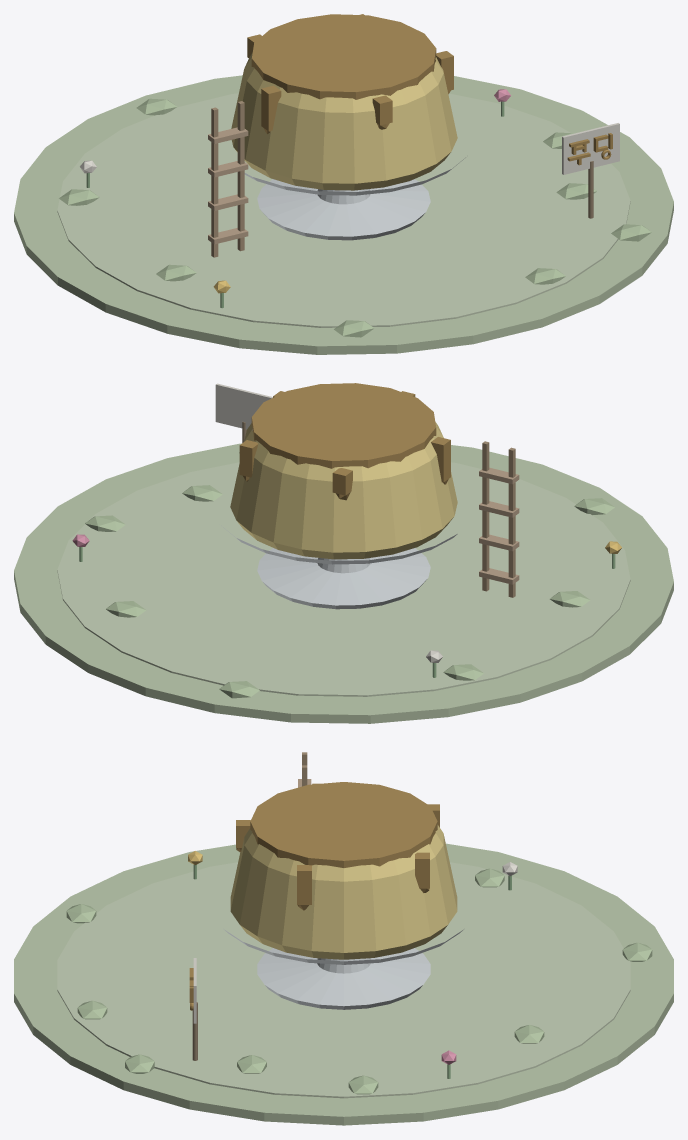
The model's file is pudding.glb.
3 renders of one model, top to bottom at view 1: azimuth 30°, elevation 25°; view 2: azimuth 150°, elevation 25°; view 3: azimuth 270°, elevation 25°, orthographic.
Parts seen in each view (by area): view 1: part_07, part_06, part_11, part_02, part_08, part_04, part_03, part_12, part_05; view 2: part_07, part_06, part_11, part_02, part_08, part_04, part_03, part_12, part_05; view 3: part_07, part_06, part_11, part_02, part_08, part_04.
Part boxes in pixels (x1,y1,x2,y2): part_07: (57,93,630,327); part_06: (14,75,673,354); part_11: (231,53,457,190); part_02: (247,14,612,165); part_08: (244,157,465,240); part_04: (59,98,651,337); part_03: (211,101,244,257); part_12: (80,123,619,174); part_05: (208,127,248,244); part_07: (57,462,630,696); part_06: (14,443,673,723); part_11: (230,422,457,559); part_02: (239,383,450,500); part_08: (221,525,457,609); part_04: (85,452,614,698); part_03: (482,441,515,597); part_12: (215,383,442,662); part_05: (479,467,519,584); part_07: (57,862,630,1098); part_06: (14,843,673,1125); part_11: (230,825,457,959); part_02: (189,782,439,1010); part_08: (224,929,463,1009); part_04: (66,868,652,1094).
Bounding box in the file's own units: 15.2 × 4.13 × 15.09.
